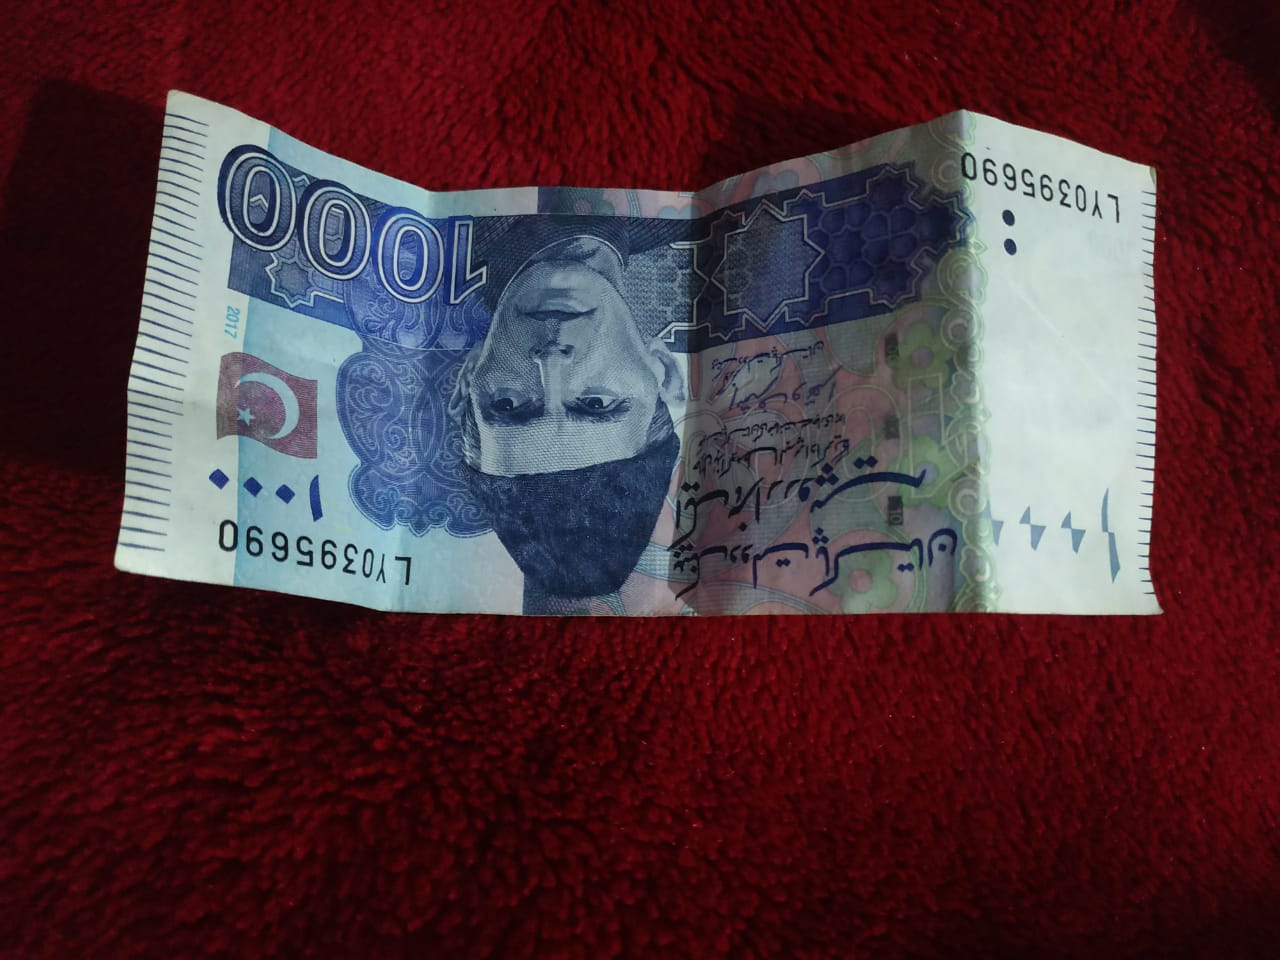1000 rupee: (121, 96, 1185, 629)
